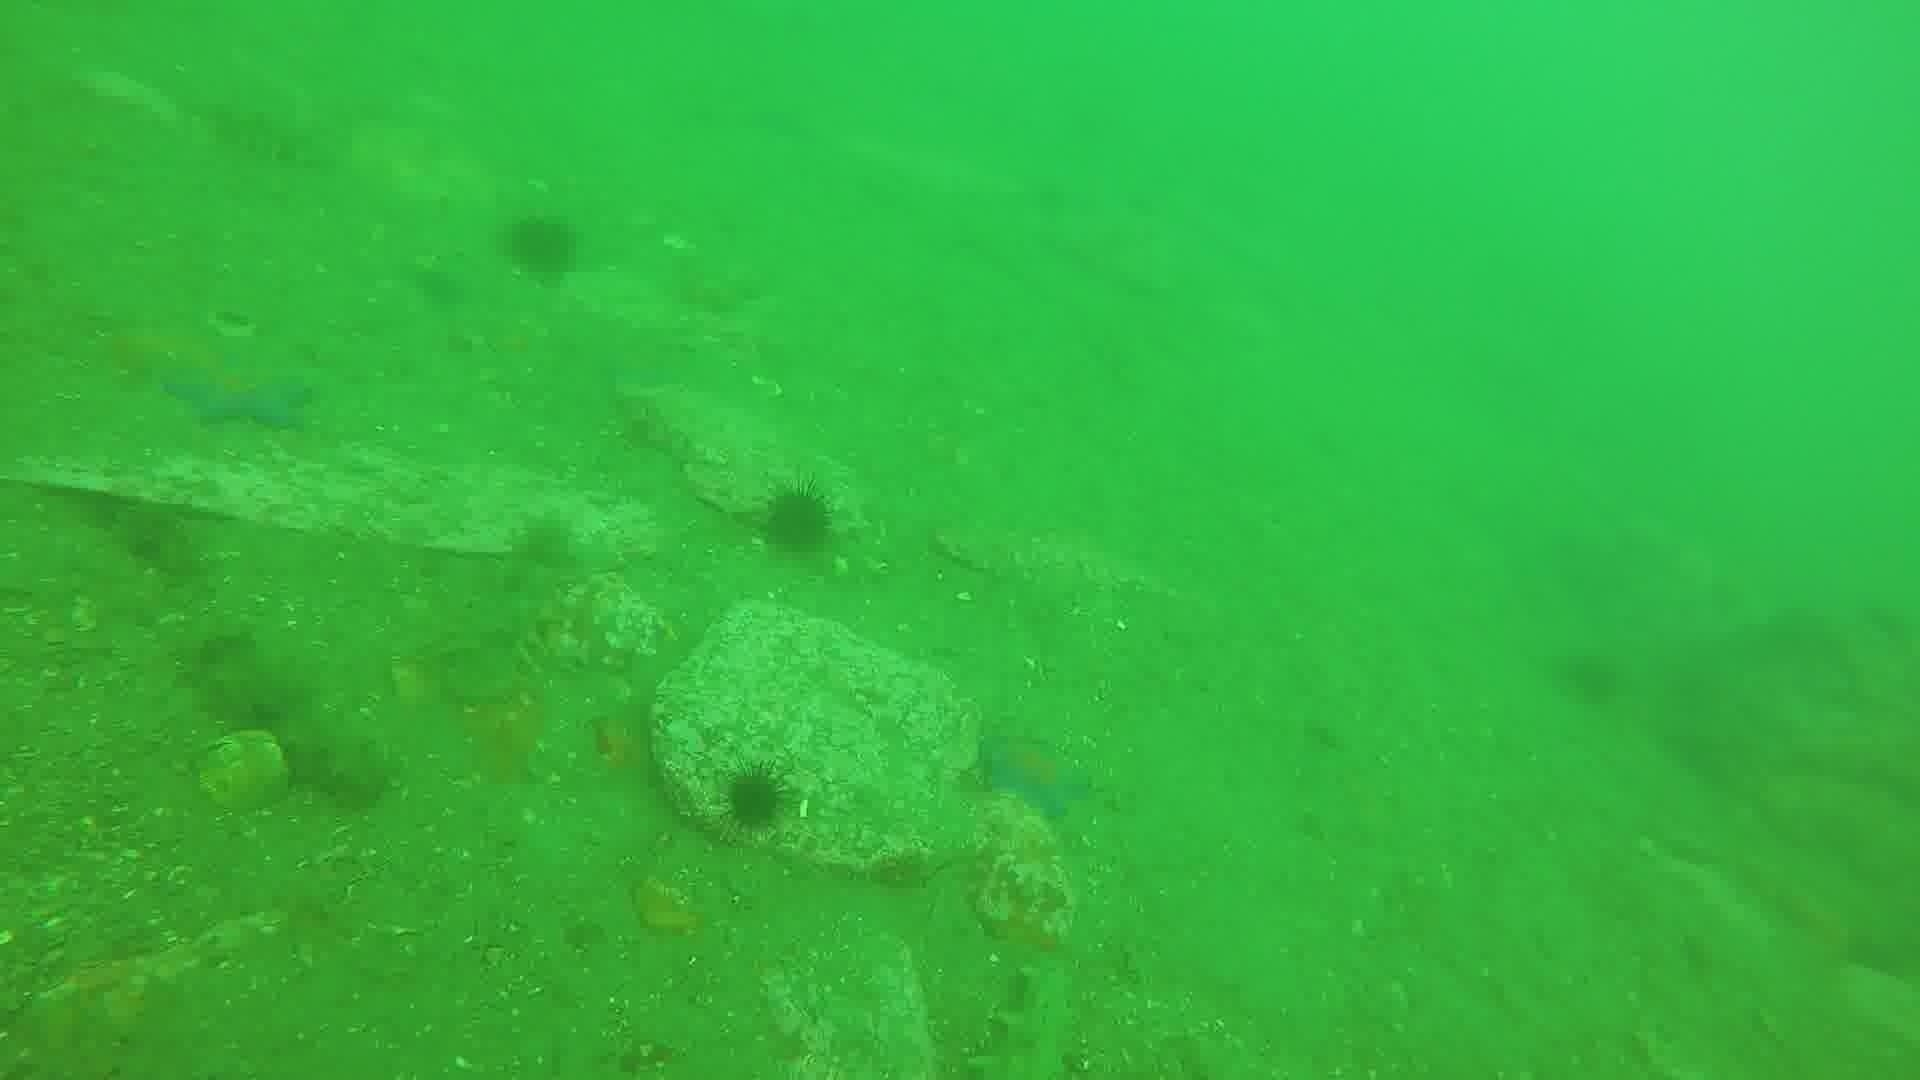echinus: (753, 479, 843, 563), (498, 208, 584, 284), (715, 761, 796, 837), (1551, 644, 1629, 709)
holothurian: (186, 622, 396, 808), (440, 516, 579, 707), (971, 953, 1091, 1079), (189, 91, 339, 171)
starfish: (162, 349, 314, 436), (973, 728, 1095, 822)
